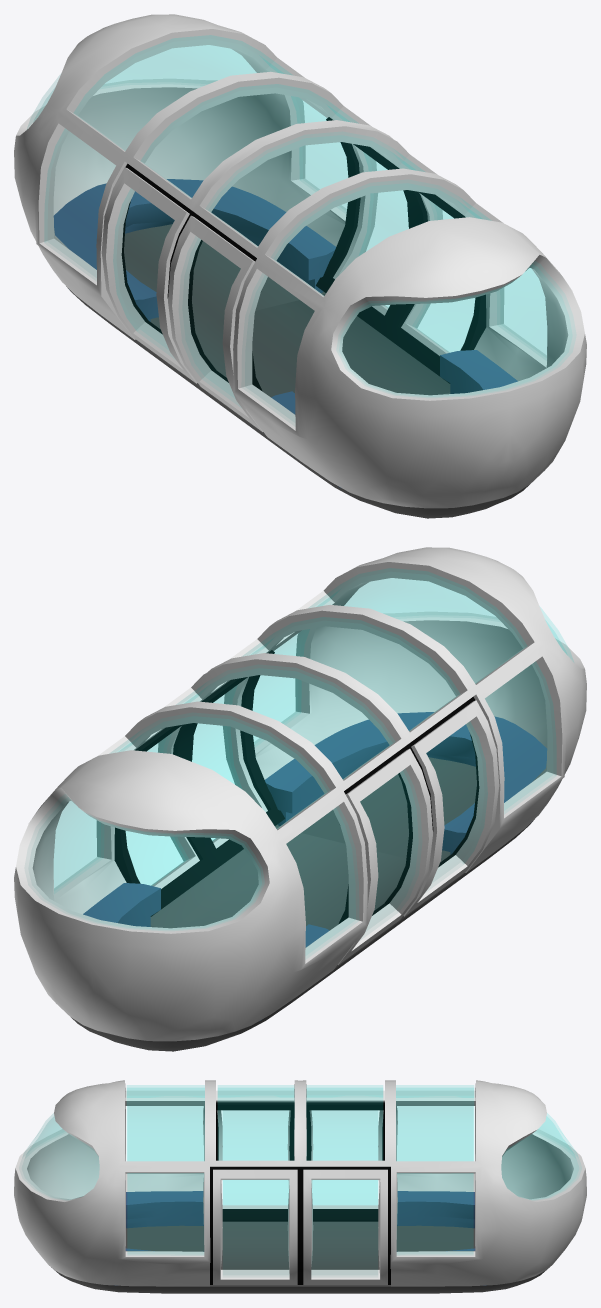
The model's file is Carriage.glb.
3 views of the same model, one above another, from view 1: azimuth 30°, elevation 25°; view 2: azimuth 150°, elevation 25°; view 3: azimuth 270°, elevation 25° (orthographic). The views are drawn at different scales.
Parts seen in each view (by area): view 1: Icosphere.001, Icosphere.002; view 2: Icosphere.001, Icosphere.002; view 3: Icosphere.001, Icosphere.002.
Part boxes in pixels (x1,y1,x2,y2): Icosphere.001: [14, 14, 586, 518]; Icosphere.002: [27, 35, 571, 421]; Icosphere.001: [14, 547, 586, 1051]; Icosphere.002: [29, 568, 573, 954]; Icosphere.001: [14, 1080, 586, 1293]; Icosphere.002: [22, 1085, 578, 1274].
Bounding box in the file's own units: 1.91 × 1.87 × 5.11.
